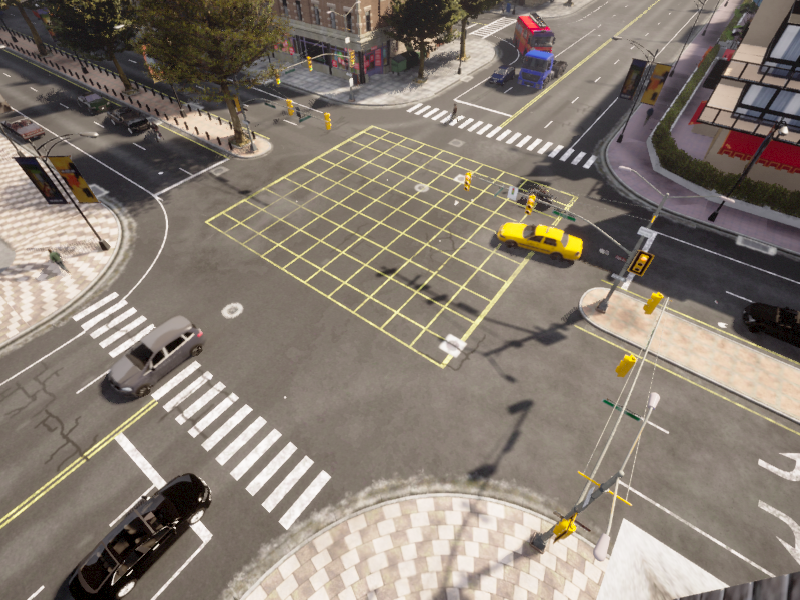vehicle: (83, 307, 209, 410), (490, 209, 583, 264), (100, 99, 157, 138), (517, 177, 554, 210), (144, 118, 171, 145)
